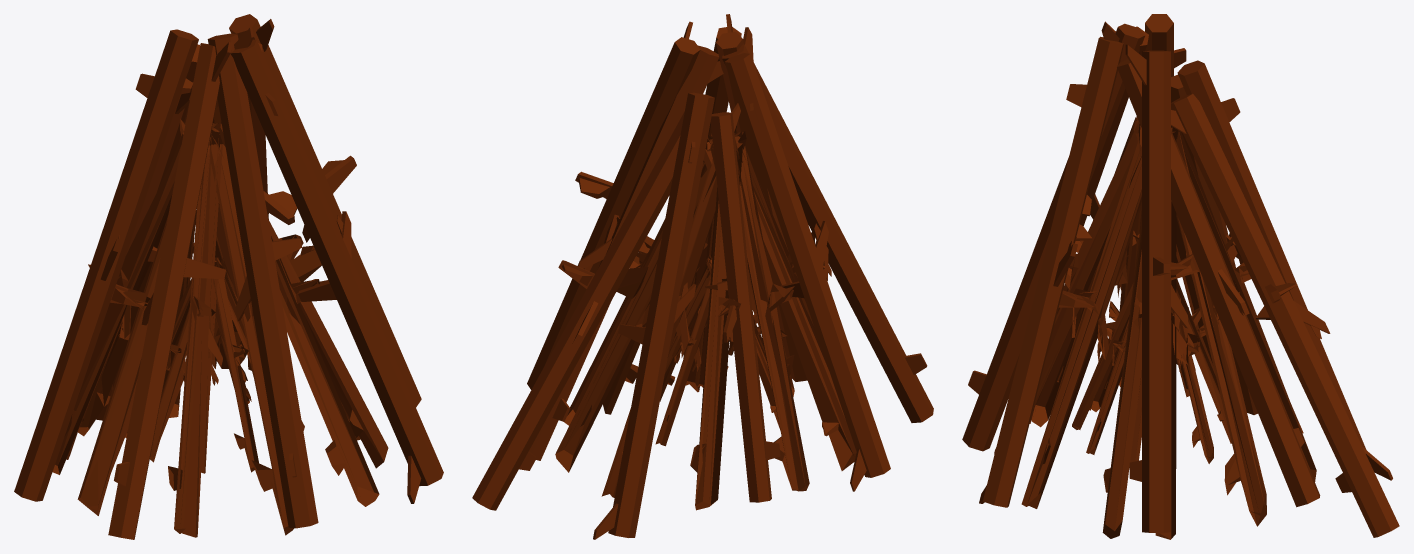
Rendered from CampfireWood.fbx.
The picture shows the model from 3 angles, left to right: view 1: azimuth 30°, elevation 25°; view 2: azimuth 150°, elevation 25°; view 3: azimuth 270°, elevation 25°; orthographic projection. The views are drawn at different scales.
Visible parts, largest first — view 1: CampfireWood; view 2: CampfireWood; view 3: CampfireWood.
Boxes of the visible parts, <box> form: CampfireWood: <box>14,14,443,539</box>; CampfireWood: <box>472,14,933,539</box>; CampfireWood: <box>962,14,1399,539</box>.
Bounding box in the file's own units: 40.04 × 46.4 × 39.58.
